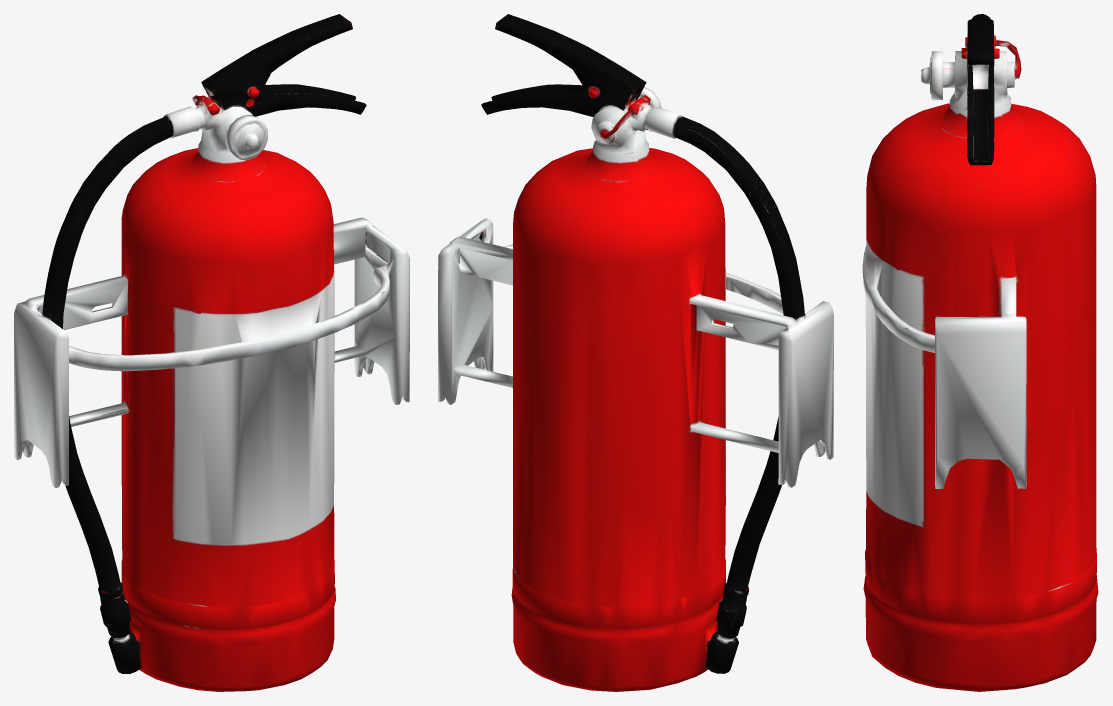
The model's file is extinguisher.glb.
3 views of the same model, side by side, from view 1: azimuth 30°, elevation 25°; view 2: azimuth 150°, elevation 25°; view 3: azimuth 270°, elevation 25° (orthographic). The views are drawn at different scales.
Parts seen in each view (by area): view 1: extinguisher; view 2: extinguisher; view 3: extinguisher.
Part boxes in pixels (x1,y1,x2,y2): extinguisher: (14,14,409,691); extinguisher: (438,14,833,691); extinguisher: (862,14,1098,691).
Size of the model in its own units: 0.6127 by 1 by 0.3259.
Materials: 1 (1 with a texture image).
